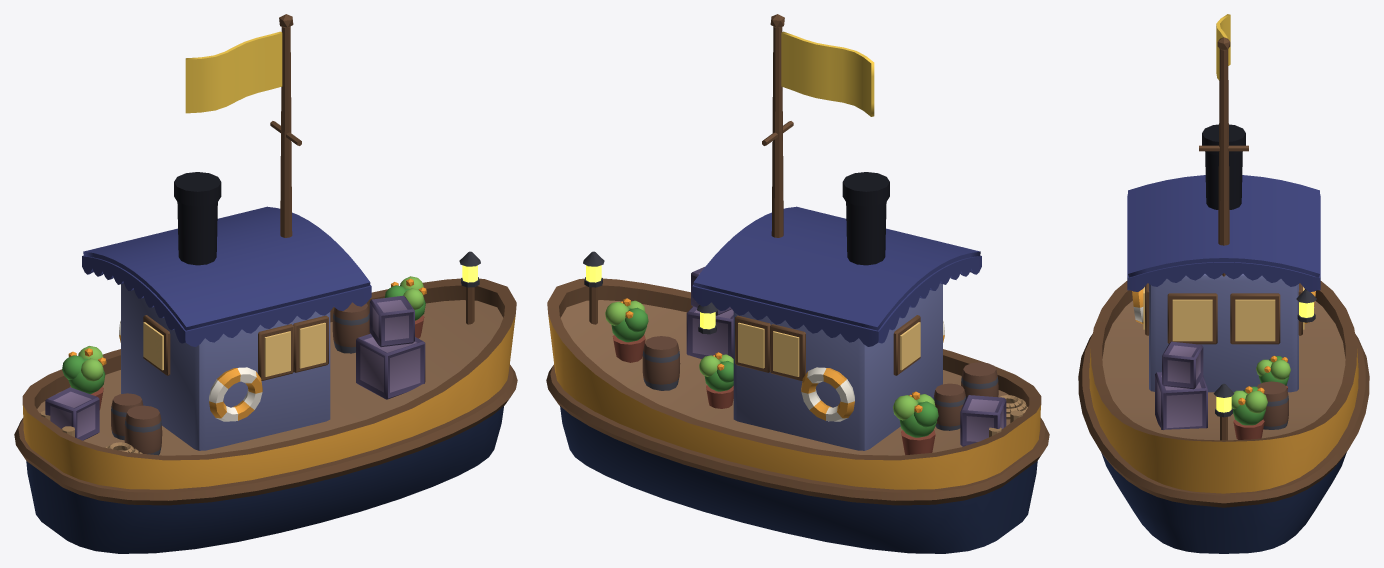
Rendered from acuarela-noche.glb.
The picture shows the model from 3 angles, left to right: view 1: azimuth 30°, elevation 25°; view 2: azimuth 150°, elevation 25°; view 3: azimuth 270°, elevation 25°; orthographic projection. The views are drawn at different scales.
Parts seen in each view (by area): view 1: hull, awning, cabin, rub_rail, crates, flag, valance, windows, barrels, chimney, mast, plants (+2 smaller); view 2: hull, awning, cabin, rub_rail, flag, valance, windows, barrels, plants, crates, chimney, mast (+3 smaller); view 3: hull, awning, cabin, rub_rail, windows, crates, valance, mast, chimney, plants, lanterns, barrels (+3 smaller).
Boxes of the visible parts, x1=… form: hull: x1=22, y1=278, x2=516, y2=553; awning: x1=83, y1=206, x2=370, y2=330; cabin: x1=121, y1=283, x2=330, y2=450; rub_rail: x1=14, y1=364, x2=517, y2=505; crates: x1=45, y1=295, x2=425, y2=440; flag: x1=185, y1=31, x2=282, y2=113; valance: x1=82, y1=255, x2=371, y2=346; windows: x1=143, y1=315, x2=328, y2=380; barrels: x1=111, y1=302, x2=370, y2=455; chimney: x1=174, y1=172, x2=221, y2=265; mast: x1=270, y1=14, x2=301, y2=237; plants: x1=62, y1=276, x2=426, y2=393; hull: x1=547, y1=278, x2=1041, y2=553; awning: x1=693, y1=206, x2=980, y2=330; cabin: x1=733, y1=283, x2=942, y2=450; rub_rail: x1=546, y1=364, x2=1049, y2=505; flag: x1=781, y1=31, x2=874, y2=116; valance: x1=692, y1=255, x2=981, y2=346; windows: x1=735, y1=315, x2=920, y2=380; barrels: x1=642, y1=336, x2=998, y2=430; plants: x1=605, y1=298, x2=938, y2=437; crates: x1=686, y1=266, x2=1006, y2=446; chimney: x1=842, y1=172, x2=889, y2=265; mast: x1=762, y1=14, x2=793, y2=237; hull: x1=1089, y1=281, x2=1358, y2=553; awning: x1=1128, y1=175, x2=1319, y2=277; cabin: x1=1149, y1=274, x2=1298, y2=392; rub_rail: x1=1078, y1=333, x2=1369, y2=507; windows: x1=1143, y1=283, x2=1304, y2=344; crates: x1=1155, y1=341, x2=1207, y2=429; valance: x1=1127, y1=194, x2=1320, y2=291; mast: x1=1199, y1=37, x2=1248, y2=276; chimney: x1=1202, y1=124, x2=1245, y2=209; plants: x1=1231, y1=356, x2=1290, y2=425; lanterns: x1=1213, y1=289, x2=1316, y2=440; barrels: x1=1257, y1=381, x2=1288, y2=429.
Size of the model in its own units: 2 by 1.89 by 1.16.
